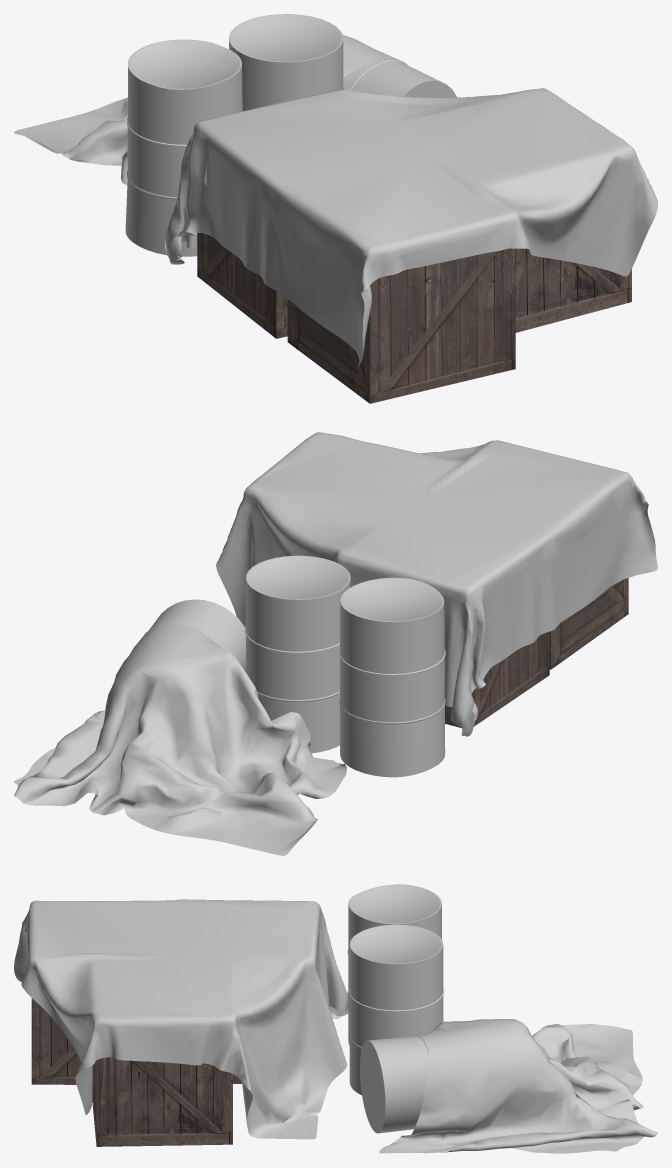
The model's file is CratesAndBarrels.fbx.
3 views of the same model, one above another, from view 1: azimuth 30°, elevation 25°; view 2: azimuth 150°, elevation 25°; view 3: azimuth 270°, elevation 25° (orthographic). The views are drawn at different scales.
Visible parts, largest first — view 1: Cloth, Crate, Barrel.002, Barrel, Crate.002, Cloth2, Crate.001, Barrel.001; view 2: Cloth, Cloth2, Barrel.002, Barrel, Crate.001, Crate, Barrel.001; view 3: Cloth, Cloth2, Crate.002, Barrel, Barrel.001, Barrel.002, Crate.
Part boxes in pixels (x1=…): Cloth: x1=164, y1=88, x2=657, y2=368; Crate: x1=287, y1=248, x2=515, y2=403; Barrel.002: x1=125, y1=39, x2=242, y2=256; Barrel: x1=229, y1=14, x2=343, y2=111; Crate.002: x1=515, y1=248, x2=631, y2=332; Cloth2: x1=14, y1=35, x2=407, y2=185; Crate.001: x1=197, y1=232, x2=287, y2=338; Barrel.001: x1=343, y1=59, x2=456, y2=97; Cloth: x1=216, y1=432, x2=657, y2=736; Cloth2: x1=14, y1=623, x2=346, y2=855; Barrel.002: x1=339, y1=577, x2=445, y2=777; Barrel: x1=245, y1=555, x2=350, y2=753; Crate.001: x1=445, y1=631, x2=549, y2=727; Crate: x1=549, y1=578, x2=628, y2=669; Barrel.001: x1=145, y1=599, x2=245, y2=671; Cloth: x1=14, y1=899, x2=348, y2=1139; Cloth2: x1=379, y1=1019, x2=657, y2=1153; Crate.002: x1=92, y1=1057, x2=232, y2=1146; Barrel: x1=349, y1=924, x2=443, y2=1095; Barrel.001: x1=360, y1=1034, x2=432, y2=1133; Barrel.002: x1=347, y1=884, x2=441, y2=1045; Crate: x1=31, y1=998, x2=81, y2=1084.
Size of the model in its own units: 226 by 107 by 450.
